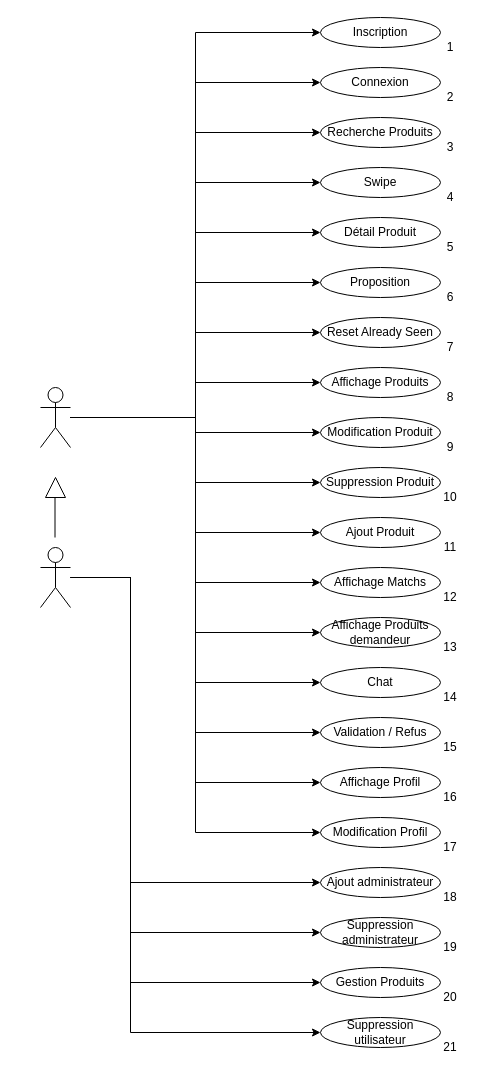
Image size: 488x1075. Some labels were removed from this diagram. The shapes that lost their labels are listed below. From the top down, each one's box as (x1, y1, x2, y2) in pixels, then its label:
(40, 386, 70, 448): Utilisateur
(40, 546, 70, 608): Administrateur
